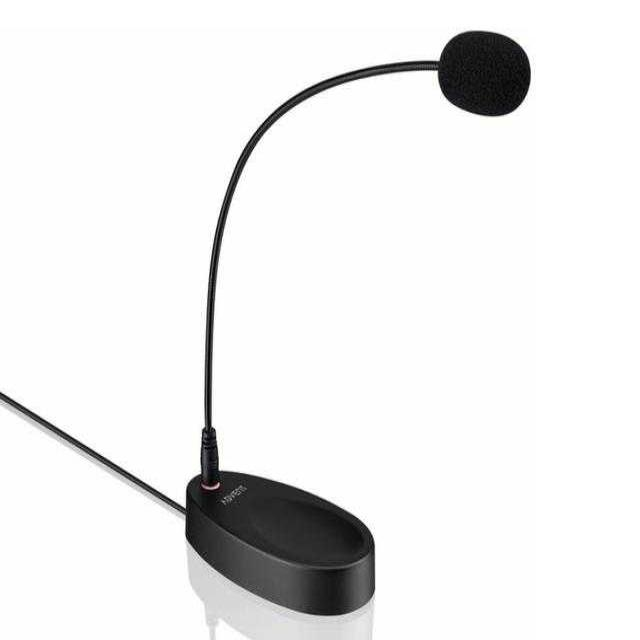microphone: (408, 23, 534, 119)
